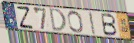7: (32, 7, 49, 31)
B: (100, 12, 118, 37)
D: (49, 8, 68, 33)
I: (88, 11, 97, 36)
O: (67, 11, 85, 34)
Z: (16, 6, 35, 30)
